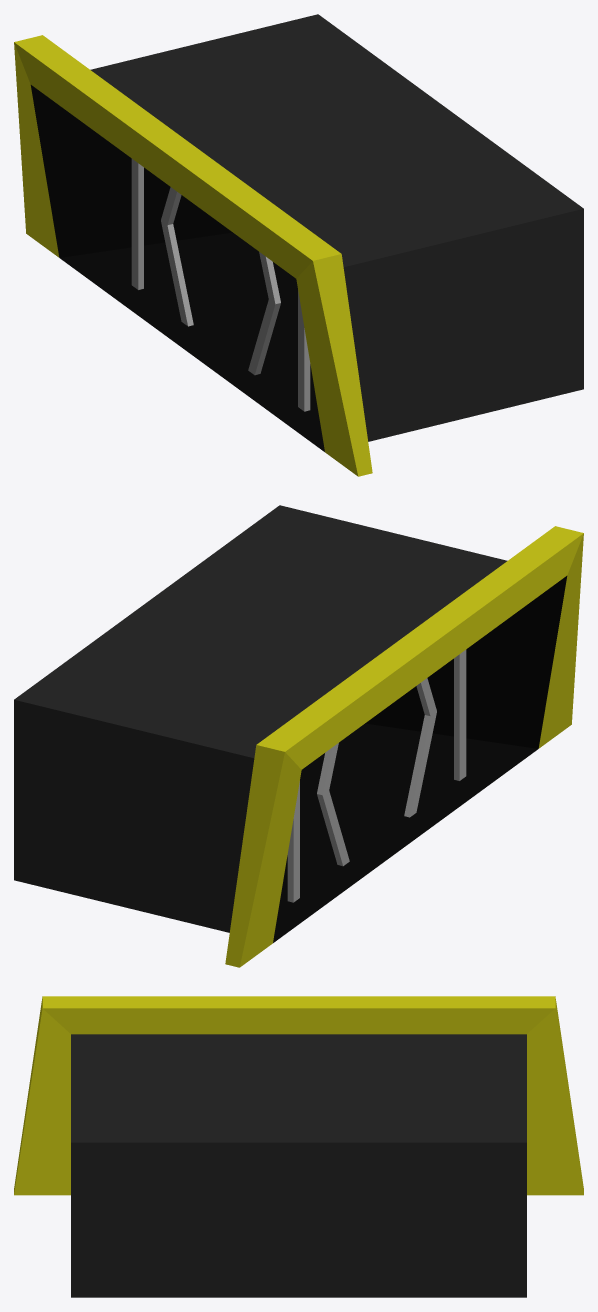
File: open_drain.gltf
3 renders of one model, top to bottom at view 1: azimuth 30°, elevation 25°; view 2: azimuth 150°, elevation 25°; view 3: azimuth 270°, elevation 25°, orthographic. The views are drawn at different scales.
Visible parts, largest first — view 1: cuboid (×5); view 2: cuboid (×5); view 3: cuboid.
Part boxes in pixels (x1,y1,x2,y2): cuboid (×5): (14, 14, 583, 476); cuboid (×5): (14, 505, 583, 967); cuboid: (14, 996, 583, 1297).
Bounding box in the file's own units: 0.625 × 0.4375 × 1.25.
Materials: 1 (1 with a texture image).
